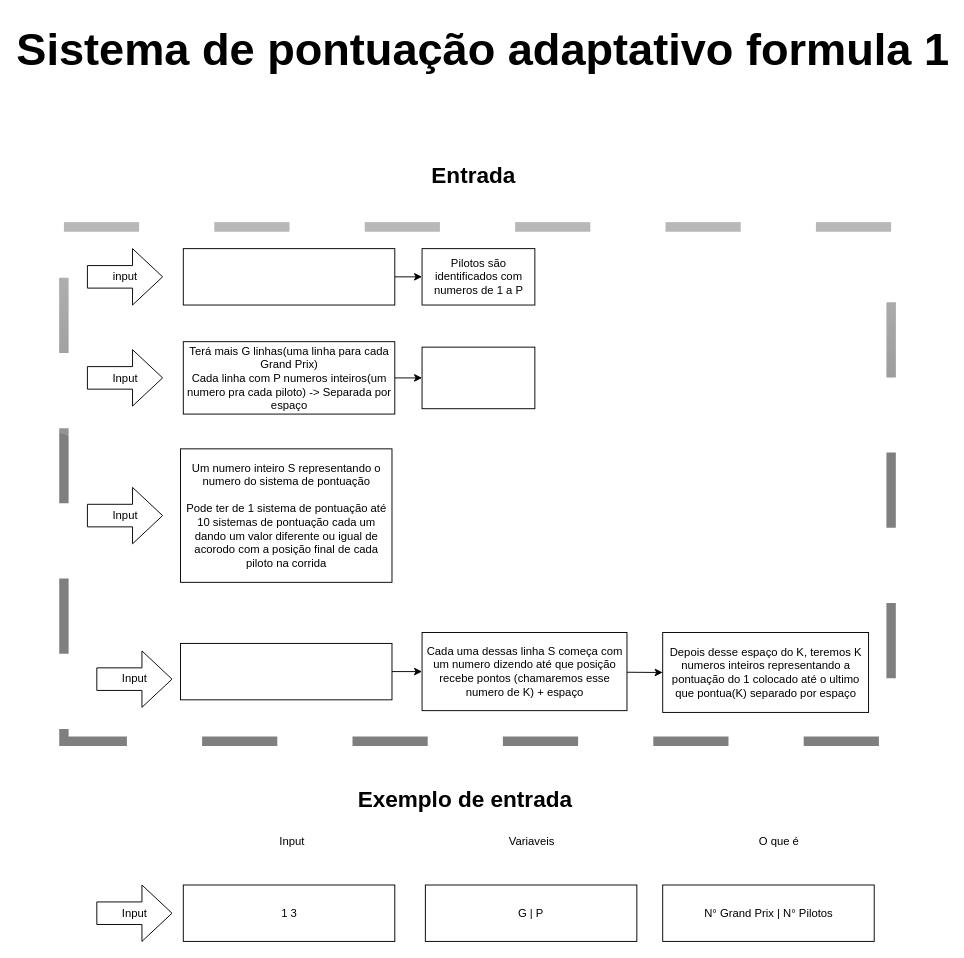
Some shapes in this 964 by 958 pixel diagram are drawn without their labels. The centre of each missing label's shape, as x and y in pixels:
G - Numero do Grand Prix (1 até 100) P - Numero de pilotos (1 até 100): the point at 288,276
O primeiro numero representa o numero do pilo que ficou em 1° lugar: the point at 478,377
Teremos S linhas depois: the point at 286,671
